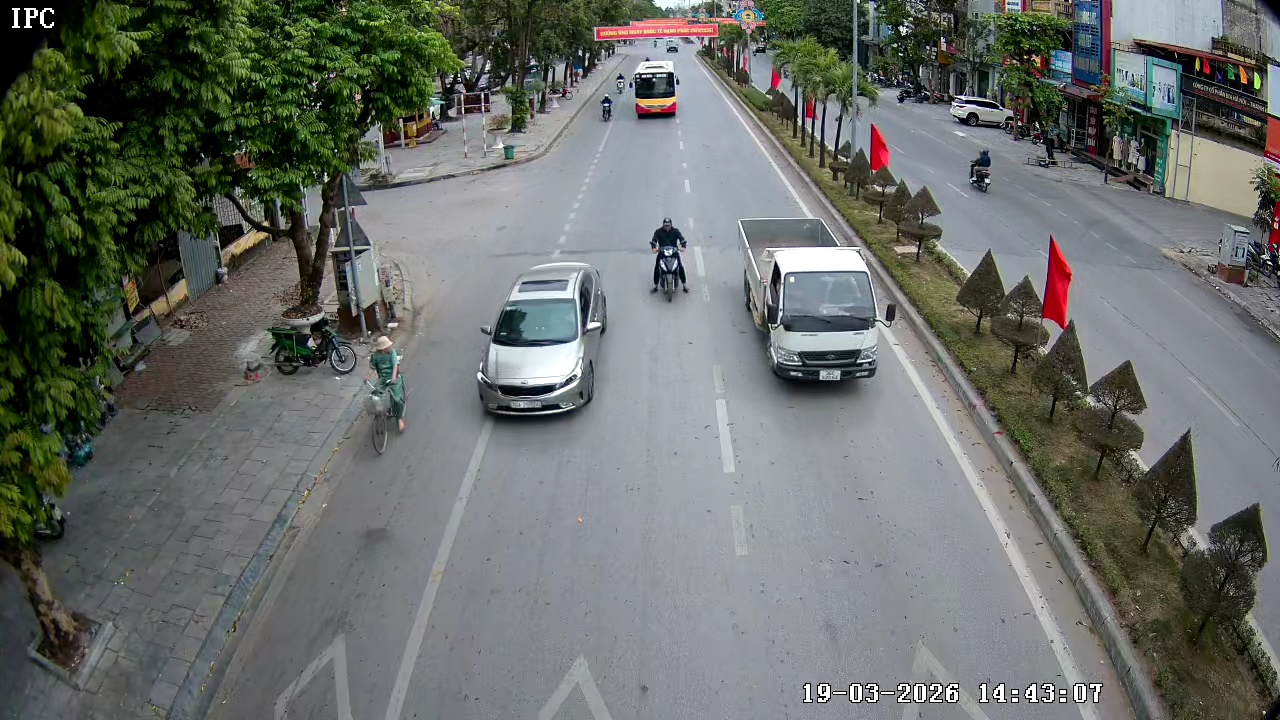bike: (359, 328, 410, 456)
bus: (631, 59, 680, 122)
car: (476, 264, 609, 419)
motorbike: (258, 315, 365, 378), (647, 215, 691, 304), (967, 146, 995, 194), (599, 95, 617, 121), (615, 73, 627, 93)
truck: (739, 195, 893, 383)
